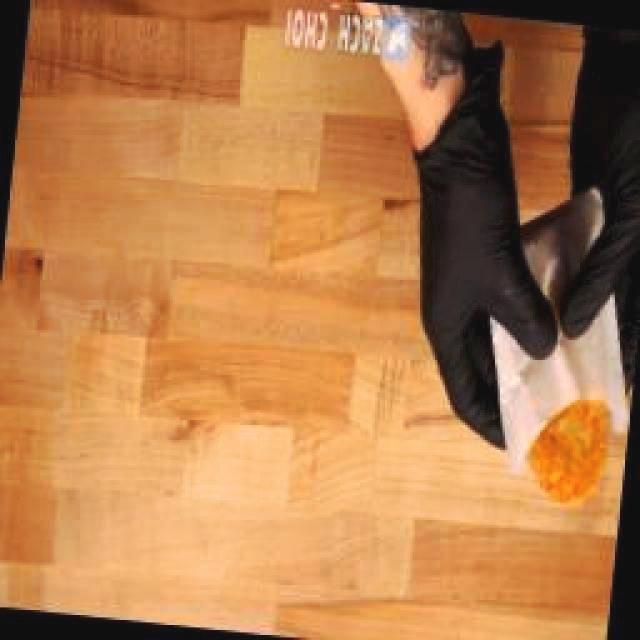Hashbrown: (526, 400, 613, 507)
